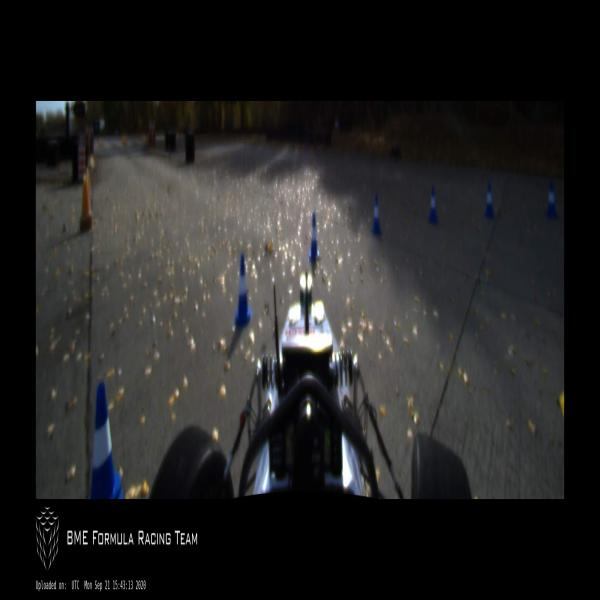blue_cone: (90, 381, 123, 498), (234, 252, 252, 326), (370, 195, 382, 234), (427, 185, 439, 223), (309, 215, 318, 260), (546, 183, 557, 218), (485, 184, 494, 218)
